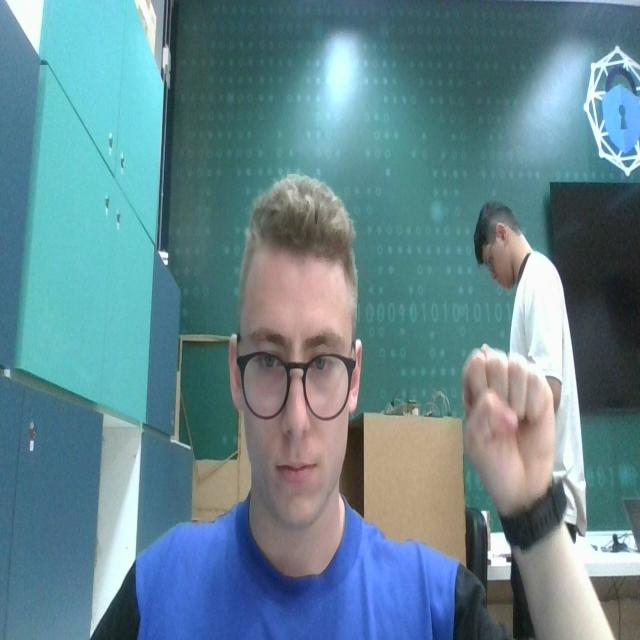S: (460, 340, 560, 503)
